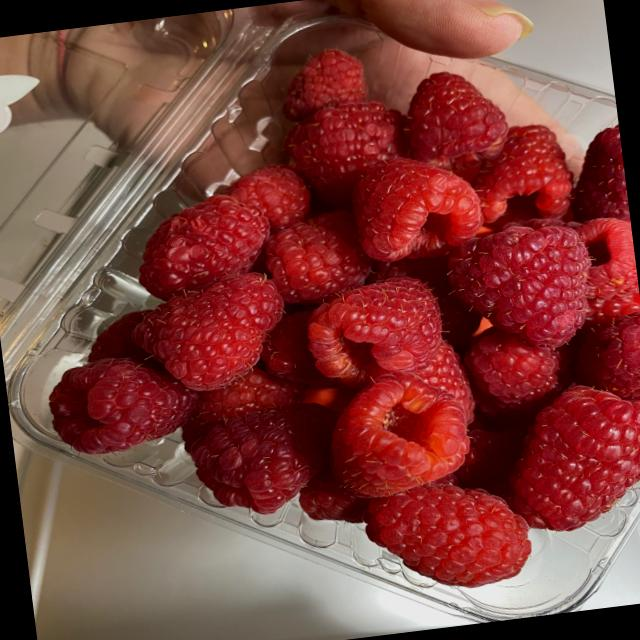raspberries: (78, 46, 636, 602)
